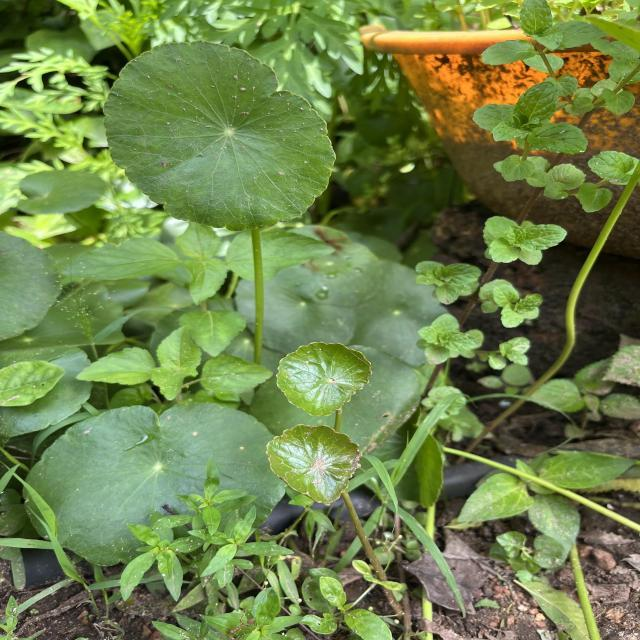Bacopa monnieri: (18, 398, 293, 570), (100, 38, 339, 234), (264, 421, 366, 509), (273, 338, 376, 418)
